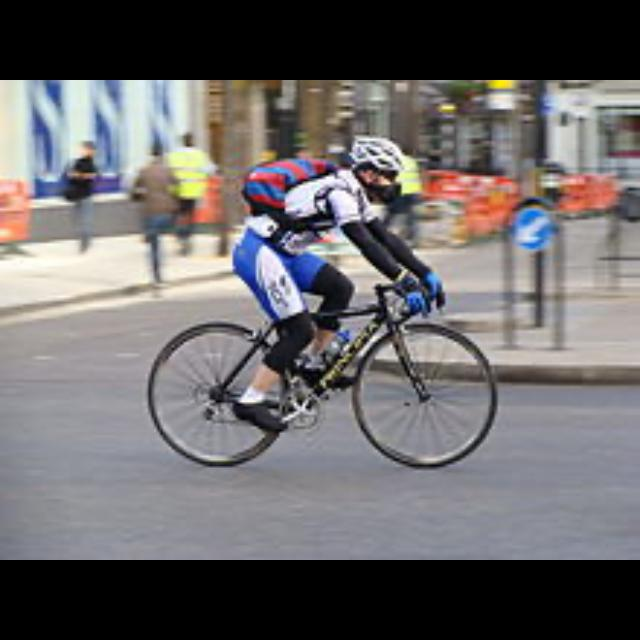With Helmet: (350, 132, 404, 205)
